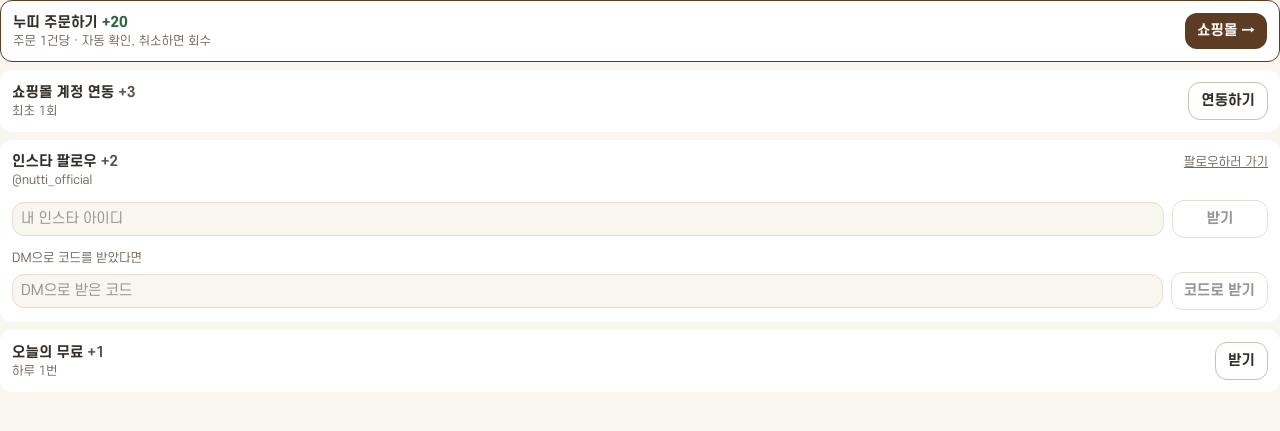
Test: EarnActionList › 매일 크레딧은 자동 충전이 아니라 받기 클릭이다 — 안내가 자정 충전을 약속하지 않는다
The image size is (1280, 431).
Click the button "받기" in the row of "오늘의 무료": x=1242, y=361 [1215, 342, 1268, 380]
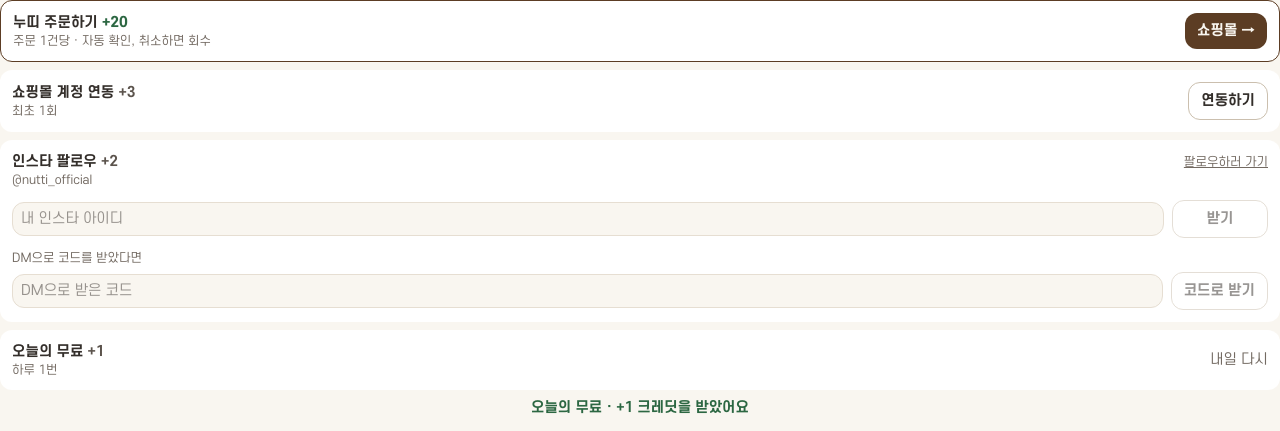
Expected: the text "내일 다시" is shown, [1210, 350, 1268, 370]
